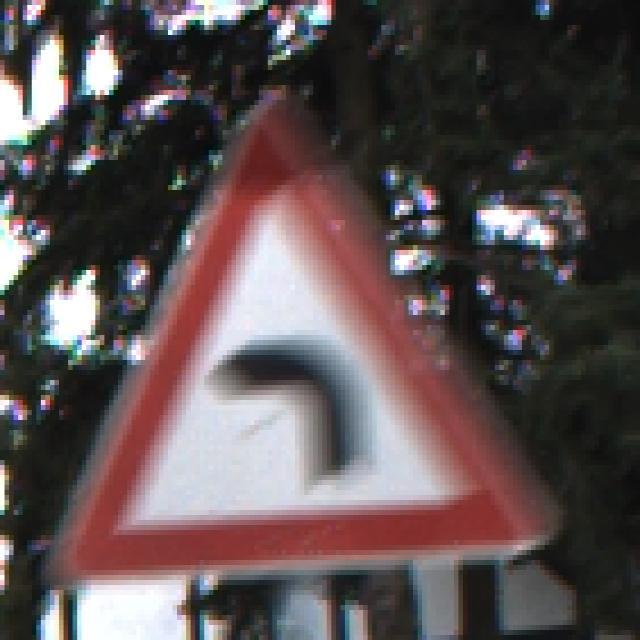left hand curve: (62, 108, 541, 555)
